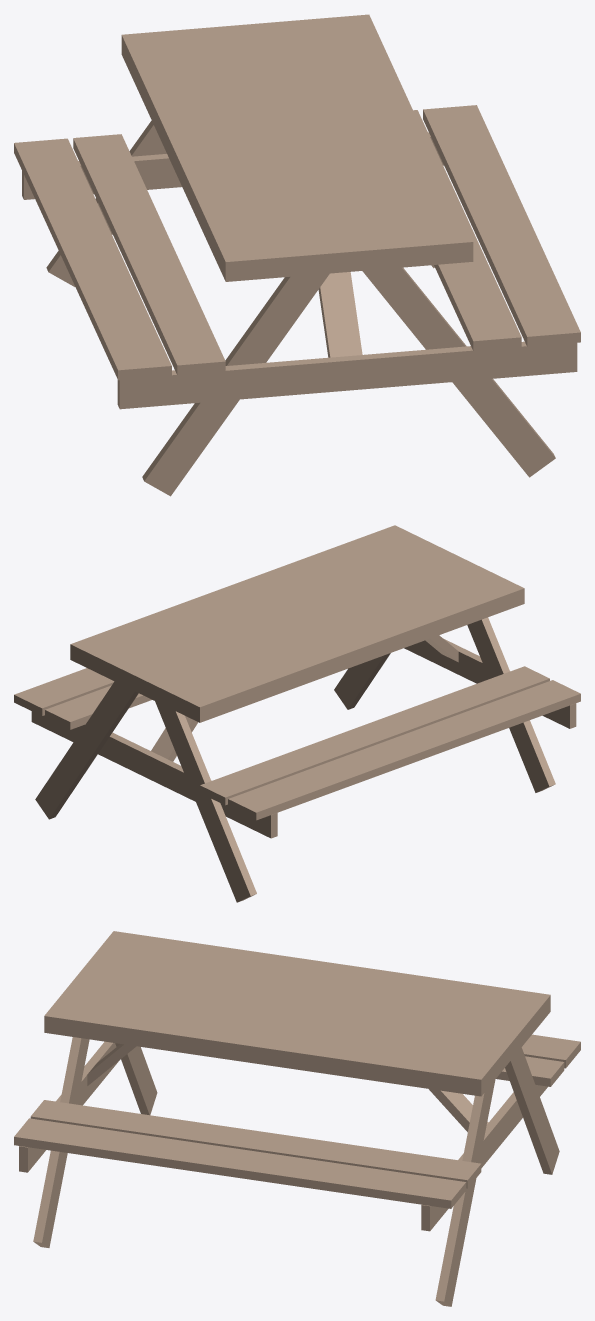
File: wood_bench_7474.glb
The picture shows the model from 3 angles, top to bottom: view 1: azimuth 30°, elevation 25°; view 2: azimuth 150°, elevation 25°; view 3: azimuth 270°, elevation 25°; orthographic projection. The views are drawn at different scales.
Parts seen in each view (by area): view 1: part_7481, part_7487, part_7482, part_7476, part_7480, part_7485, part_7486, part_7477, part_7479, part_7493, part_7491; view 2: part_7481, part_7482, part_7480, part_7491, part_7492, part_7493, part_7485, part_7476, part_7487, part_7477, part_7486, part_7478; view 3: part_7481, part_7476, part_7477, part_7492, part_7486, part_7491, part_7493, part_7485, part_7487, part_7482, part_7480, part_7478 (+1 smaller).
Part boxes in pixels (left/top/right/bottom): part_7481: left=121, top=14, right=473, bottom=281; part_7487: left=117, top=341, right=577, bottom=409; part_7482: left=14, top=138, right=171, bottom=380; part_7476: left=423, top=105, right=580, bottom=346; part_7480: left=73, top=134, right=225, bottom=375; part_7485: left=142, top=273, right=329, bottom=496; part_7486: left=362, top=267, right=555, bottom=477; part_7477: left=413, top=110, right=521, bottom=351; part_7479: left=318, top=272, right=362, bottom=357; part_7493: left=22, top=132, right=443, bottom=199; part_7491: left=46, top=120, right=166, bottom=286; part_7481: left=70, top=525, right=524, bottom=722; part_7482: left=228, top=680, right=580, bottom=820; part_7480: left=200, top=666, right=549, bottom=805; part_7491: left=155, top=701, right=256, bottom=902; part_7492: left=35, top=681, right=138, bottom=819; part_7493: left=31, top=711, right=277, bottom=838; part_7485: left=467, top=617, right=555, bottom=792; part_7476: left=14, top=668, right=114, bottom=715; part_7487: left=404, top=638, right=576, bottom=728; part_7477: left=45, top=685, right=151, bottom=729; part_7486: left=334, top=653, right=390, bottom=709; part_7478: left=151, top=716, right=198, bottom=761; part_7481: left=44, top=931, right=550, bottom=1096; part_7476: left=14, top=1118, right=466, bottom=1208; part_7477: left=30, top=1100, right=481, bottom=1188; part_7492: left=435, top=1080, right=495, bottom=1306; part_7486: left=33, top=1037, right=89, bottom=1247; part_7491: left=505, top=1047, right=559, bottom=1174; part_7493: left=421, top=1085, right=547, bottom=1231; part_7485: left=115, top=1043, right=157, bottom=1115; part_7487: left=19, top=1041, right=119, bottom=1172; part_7482: left=521, top=1034, right=580, bottom=1068; part_7480: left=496, top=1056, right=564, bottom=1086; part_7478: left=429, top=1089, right=488, bottom=1132.
Size of the model in its own units: 11.39 by 4.98 by 12.26.
